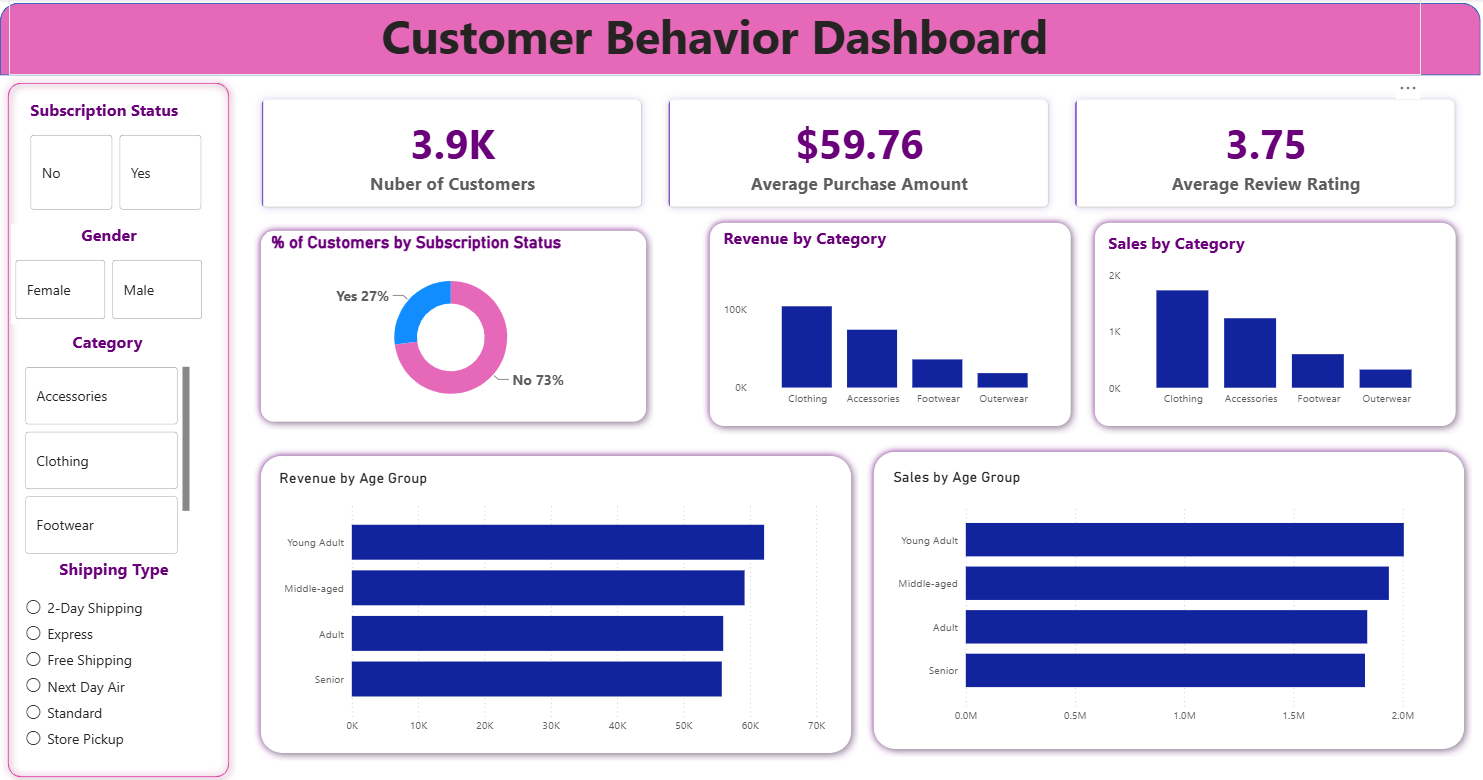

The dashboard page shown, as its layout file describes it:
{"tool":"powerbi","page":{"name":"Page 1","canvas":[1700,900],"ordinal":0},"visuals":[{"type":"cardVisual","fields":{"Data":["public customer.Nuber of Customers","public customer.Average Purchase Amount","public customer.Average Review Rating"]},"box":[271.2,87,1424.9,180.1],"z":0},{"type":"shape","box":[0,4,1696.1,83],"z":1000},{"type":"textbox","box":[10.1,0,1617.2,87],"z":2000},{"type":"shape","box":[289.4,257.1,459.5,236.8],"z":3000},{"type":"donutChart","title":"% of  Customers by Subscription Status","fields":{"Category":["public customer.subscription_status"],"Y":["CountNonNull(public customer.customer_id)"]},"box":[305.6,267.2,421,208.5],"z":4000},{"type":"shape","box":[804.4,247.4,431.5,250.8],"z":5000},{"type":"shape","box":[1244.8,247.4,431.5,250.8],"z":6000},{"type":"clusteredColumnChart","title":"Revenue by Category","fields":{"Y":["Sum(public customer.purchase_amount)"],"Category":["public customer.category"]},"box":[823.8,261.1,391,213.9],"z":7000},{"type":"clusteredColumnChart","title":"Sales by Category","fields":{"Y":["CountNonNull(public customer.customer_id)"],"Category":["public customer.category"]},"box":[1265,267.5,391,208.4],"z":8000},{"type":"shape","box":[0,87.1,271.2,813.7],"z":9000},{"type":"advancedSlicerVisual","title":"Subscription Status","fields":{"Values":["public customer.subscription_status"]},"box":[29.8,114.6,207.3,132.9],"z":10000},{"type":"advancedSlicerVisual","title":"Gender","fields":{"Values":["public customer.gender"]},"box":[12.6,257.7,216.5,122.6],"z":11000},{"type":"advancedSlicerVisual","title":"Category","fields":{"Values":["public customer.category"]},"box":[24.3,380.5,196.3,267.2],"z":12000},{"type":"listSlicer","title":"Shipping Type","fields":{"Values":["public customer.shipping_type"]},"box":[24.3,647.7,212.5,224.7],"z":13000},{"type":"shape","box":[289.4,514.1,694.2,358.3],"z":14000},{"type":"shape","box":[991.7,509.3,694.2,358.3],"z":15000},{"type":"clusteredBarChart","title":"Revenue by Age Group","fields":{"Category":["public customer.age_group"],"Y":["Sum(public customer.purchase_amount)"]},"box":[314.9,538.4,635,312.2],"z":16000},{"type":"clusteredBarChart","title":"Sales  by Age Group","fields":{"Category":["public customer.age_group"],"Y":["Sum(public customer.customer_id)"]},"box":[1018.7,537.1,657.5,301.6],"z":17000}]}

Visuals, with their boxes in screenshot pixels (x1, y1, x2, y2), scaled from the page's 1700x900 canvas onto the 1483x780 screenshot:
cardVisual - public customer.Nuber of Customers x public customer.Average Purchase Amount: <bbox>237, 75, 1480, 231</bbox>
shape: <bbox>0, 3, 1480, 75</bbox>
textbox: <bbox>9, 0, 1420, 75</bbox>
shape: <bbox>252, 223, 653, 428</bbox>
"% of  Customers by Subscription Status" donutChart: <bbox>267, 232, 634, 412</bbox>
shape: <bbox>702, 214, 1078, 432</bbox>
shape: <bbox>1086, 214, 1462, 432</bbox>
"Revenue by Category" clusteredColumnChart: <bbox>719, 226, 1060, 412</bbox>
"Sales by Category" clusteredColumnChart: <bbox>1104, 232, 1445, 412</bbox>
shape: <bbox>0, 75, 237, 779</bbox>
"Subscription Status" advancedSlicerVisual: <bbox>26, 99, 207, 214</bbox>
"Gender" advancedSlicerVisual: <bbox>11, 223, 200, 330</bbox>
"Category" advancedSlicerVisual: <bbox>21, 330, 192, 561</bbox>
"Shipping Type" listSlicer: <bbox>21, 561, 207, 756</bbox>
shape: <bbox>252, 446, 858, 756</bbox>
shape: <bbox>865, 441, 1471, 752</bbox>
"Revenue by Age Group" clusteredBarChart: <bbox>275, 467, 829, 737</bbox>
"Sales  by Age Group" clusteredBarChart: <bbox>889, 465, 1462, 727</bbox>
